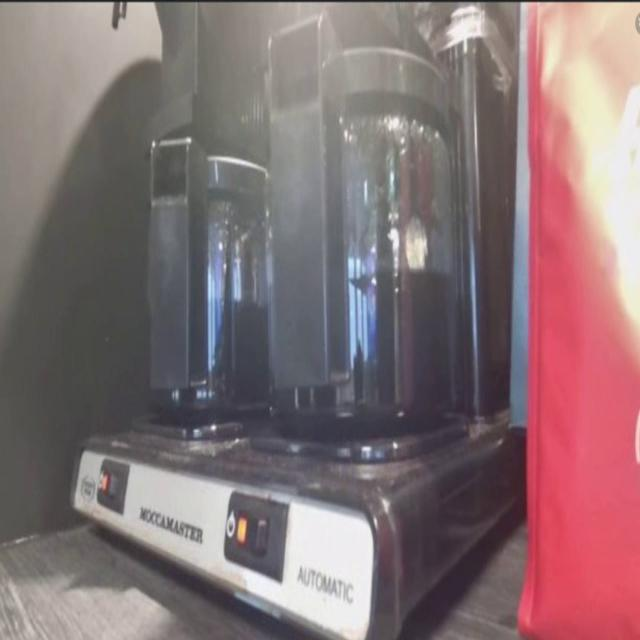coffee: (256, 22, 467, 448), (141, 128, 274, 436)
